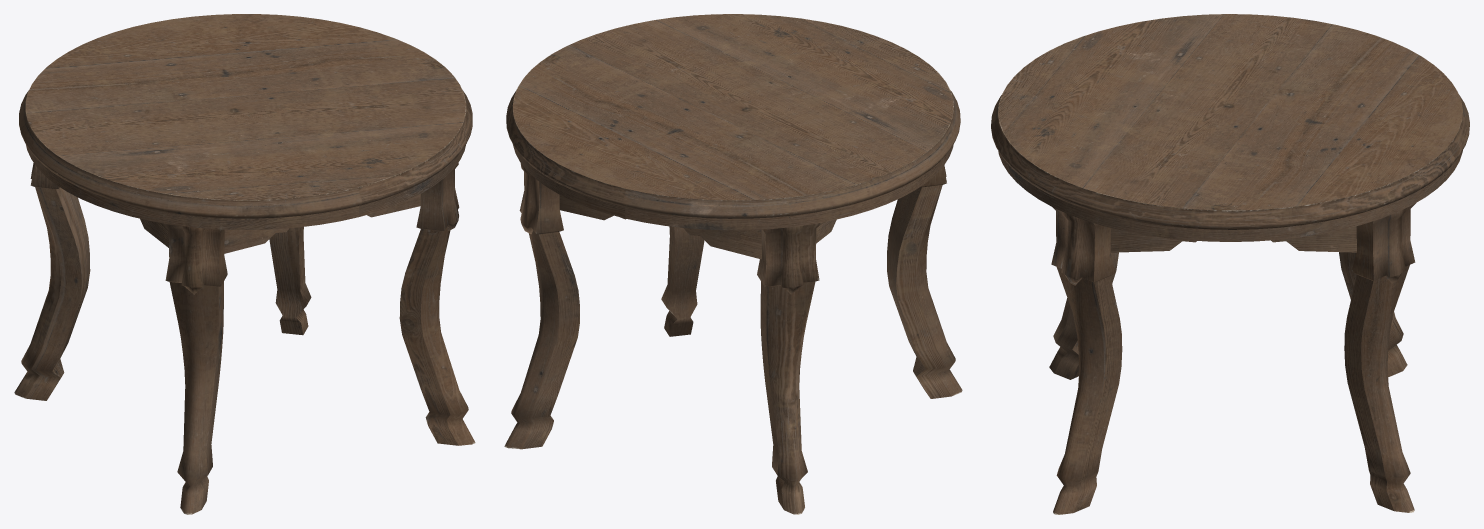
Rendered from SM_Table.fbx.
3 renders of one model, left to right at view 1: azimuth 30°, elevation 25°; view 2: azimuth 150°, elevation 25°; view 3: azimuth 270°, elevation 25°, orthographic. The views are drawn at different scales.
Visible parts, largest first — view 1: SM_Table_LOD0; view 2: SM_Table_LOD0; view 3: SM_Table_LOD0.
Boxes of the visible parts, box(x1,y1,x2,y2) form: SM_Table_LOD0: box(14, 14, 475, 514); SM_Table_LOD0: box(504, 14, 962, 514); SM_Table_LOD0: box(991, 14, 1469, 514).
Size of the model in its own units: 116 by 116 by 87.32.
